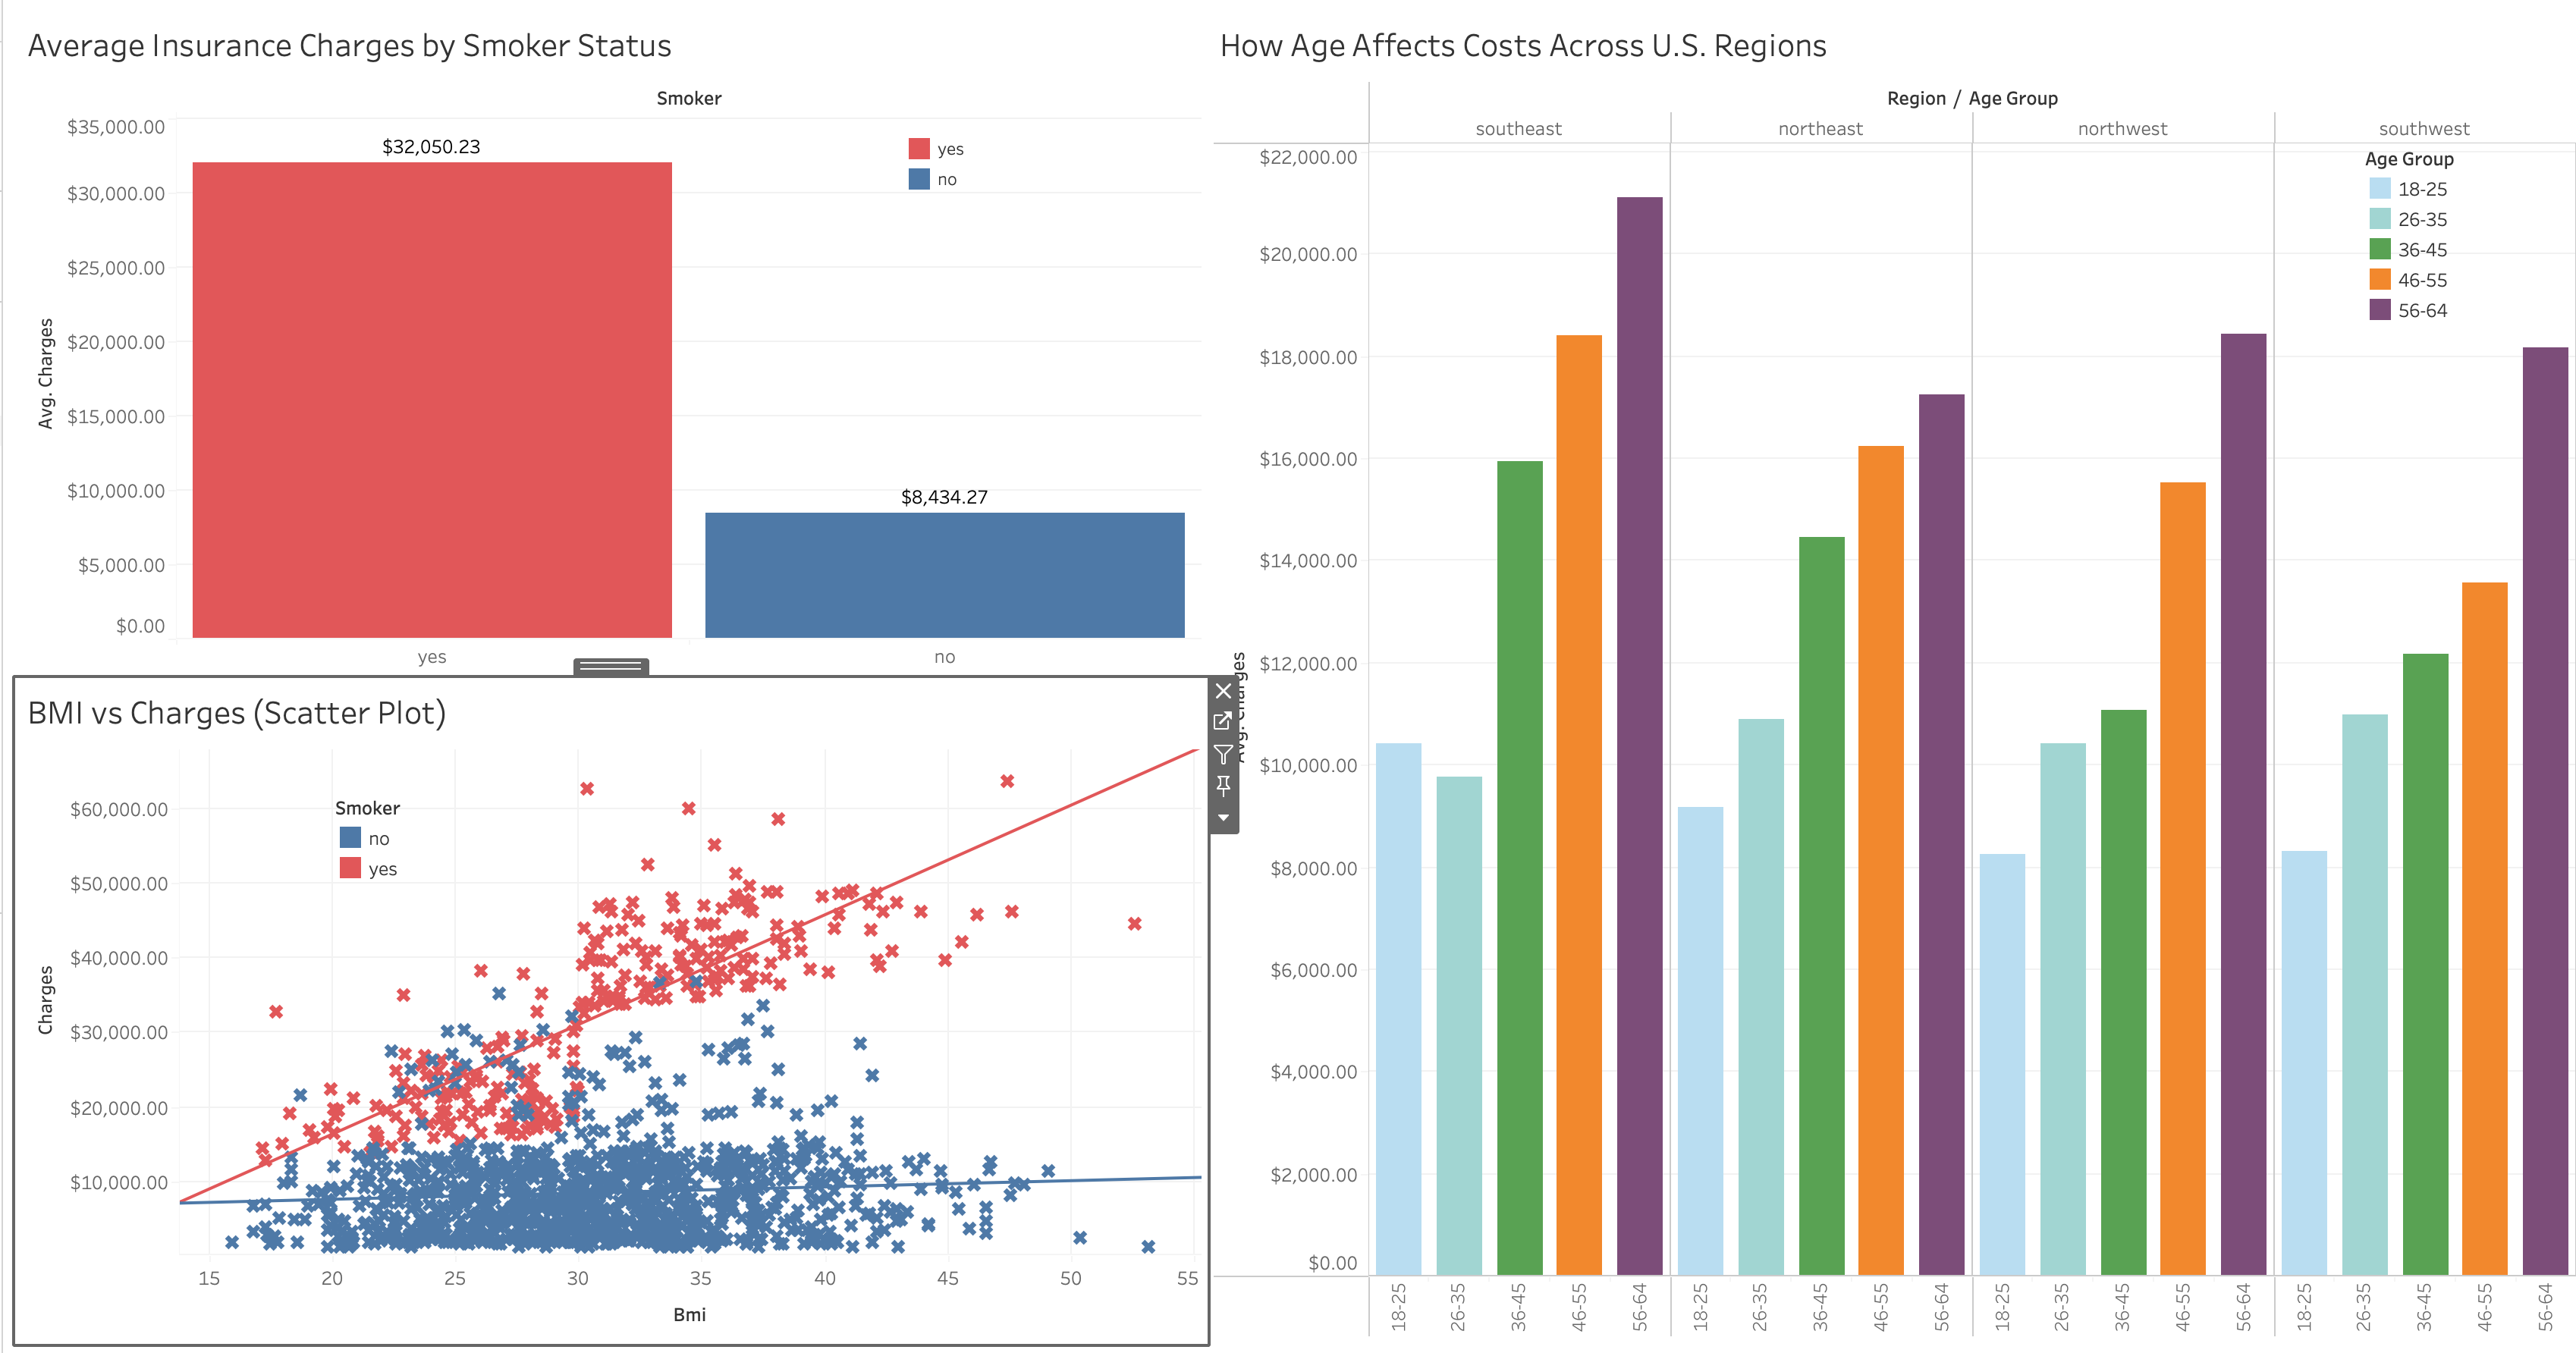

This screenshot's page, from the dashboard's own definition file:
{"tool":"tableau","page":{"name":"How Risk Gets Priced: Analyzing Medical Insurance Costs by Lifestyle and Age","canvas":[1000,1000],"units":"permille","ordinal":0},"visuals":[{"type":"worksheet","title":"Average Insurance Charges by Smoker Status","mark":"Bar","rows":["charges"],"cols":["smoker"],"box":[4.7,8.9,459.9,491.1]},{"type":"worksheet","title":"Average Insurance Charges by Region and Age Group","mark":"Automatic","rows":["charges"],"cols":["region","age_group"],"box":[464.6,8.9,530.7,982.1]},{"type":"legend","title":"Average Insurance Charges by Smoker Status","param":"[federated.0a426hl1wgymgc19x5dou1vtjqgg].[none:smoker:nk]","box":[347.6,81.6,52.7,64.8]},{"type":"legend","title":"Average Insurance Charges by Region and Age Group","param":"[federated.0a426hl1wgymgc19x5dou1vtjqgg].[none:age_group:nk]","box":[911.1,108.4,81.9,131.8]},{"type":"worksheet","title":"BMI vs Charges (Scatter Plot)","mark":"Automatic","rows":["charges"],"cols":["bmi"],"box":[4.7,500,459.9,491.1]},{"type":"legend","title":"BMI vs Charges (Scatter Plot)","param":"[federated.0a426hl1wgymgc19x5dou1vtjqgg].[none:smoker:nk]","box":[128.2,586.6,65.5,72.6]}]}

Visuals, with their boxes on the dashboard's canvas, which has no fixed pixel size, in thousandths of its width and height (x1, y1, x2, y2). These are canvas units, not pixel positions in the 2576x1353 screenshot, which may show the page scaled, cropped or inside an application window:
"Average Insurance Charges by Smoker Status" worksheet (Bar marks): crop(5, 9, 465, 500)
"Average Insurance Charges by Region and Age Group" worksheet: crop(465, 9, 995, 991)
"Average Insurance Charges by Smoker Status" legend: crop(348, 82, 400, 146)
"Average Insurance Charges by Region and Age Group" legend: crop(911, 108, 993, 240)
"BMI vs Charges (Scatter Plot)" worksheet: crop(5, 500, 465, 991)
"BMI vs Charges (Scatter Plot)" legend: crop(128, 587, 194, 659)
